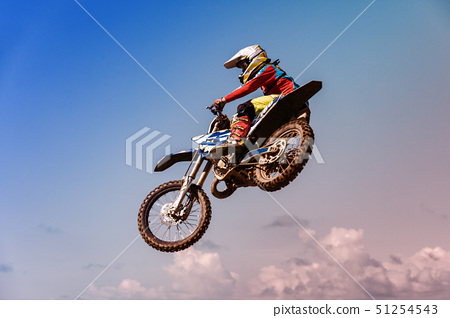helmet: (224, 42, 265, 82)
